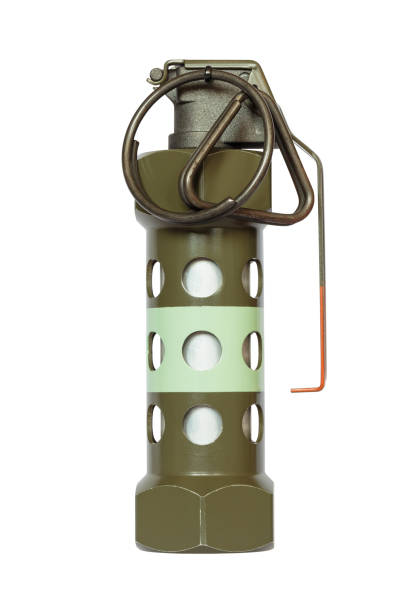e1: (112, 57, 330, 561)
